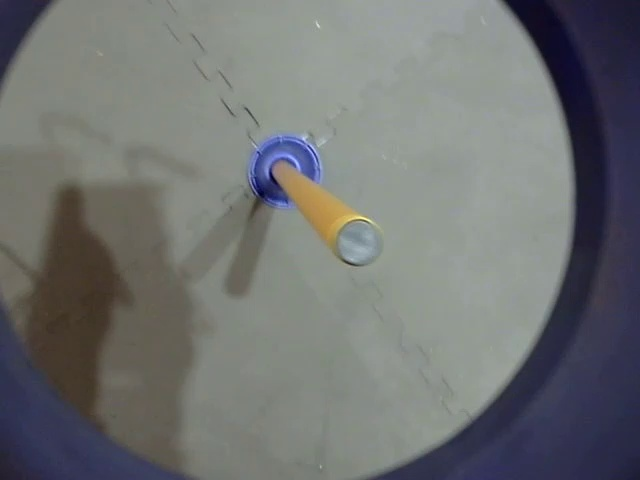tip: (321, 210, 389, 270)
